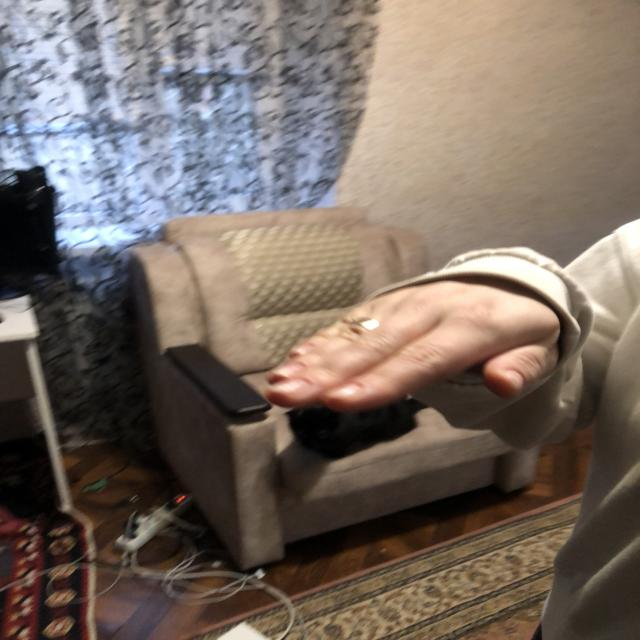paper: (268, 304, 564, 408)
